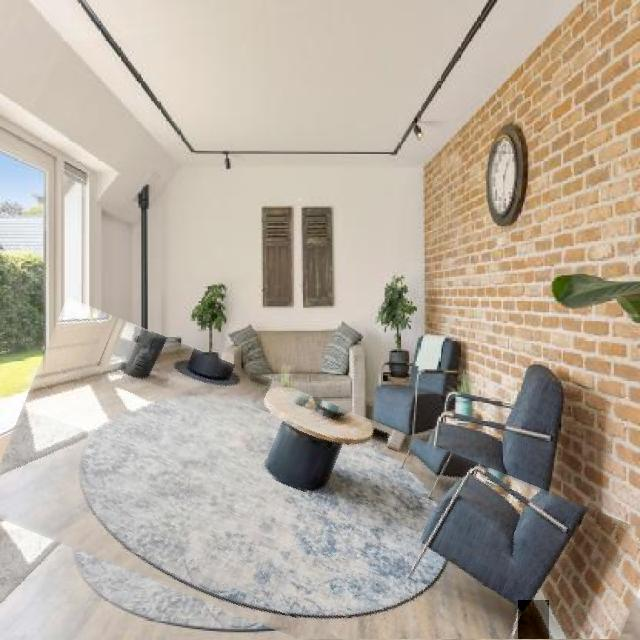floor: (0, 351, 516, 640), (519, 600, 549, 640)
